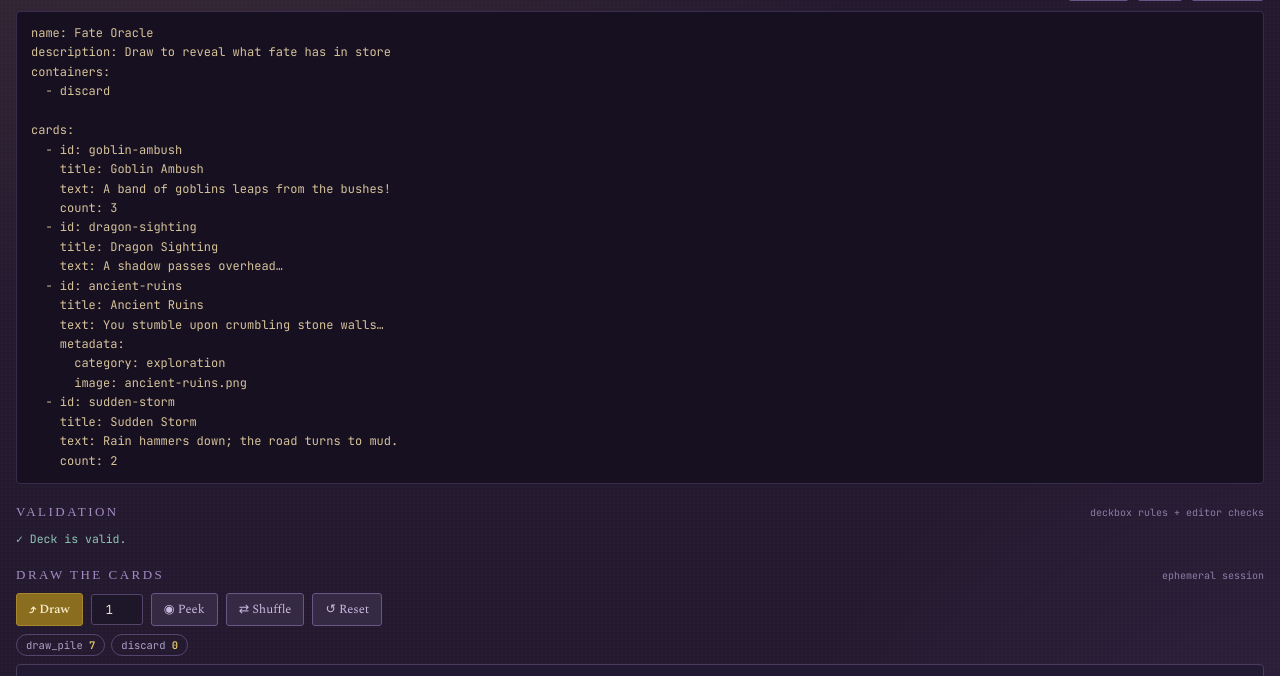
Test: DRAW THE CARDS › draws N=3: depletes draw_pile 7→4, accumulates 3 rows top-of-deck-first
The image size is (1280, 676).
Replace the text in the number field with "3" at (117, 610), box [91, 594, 143, 625]
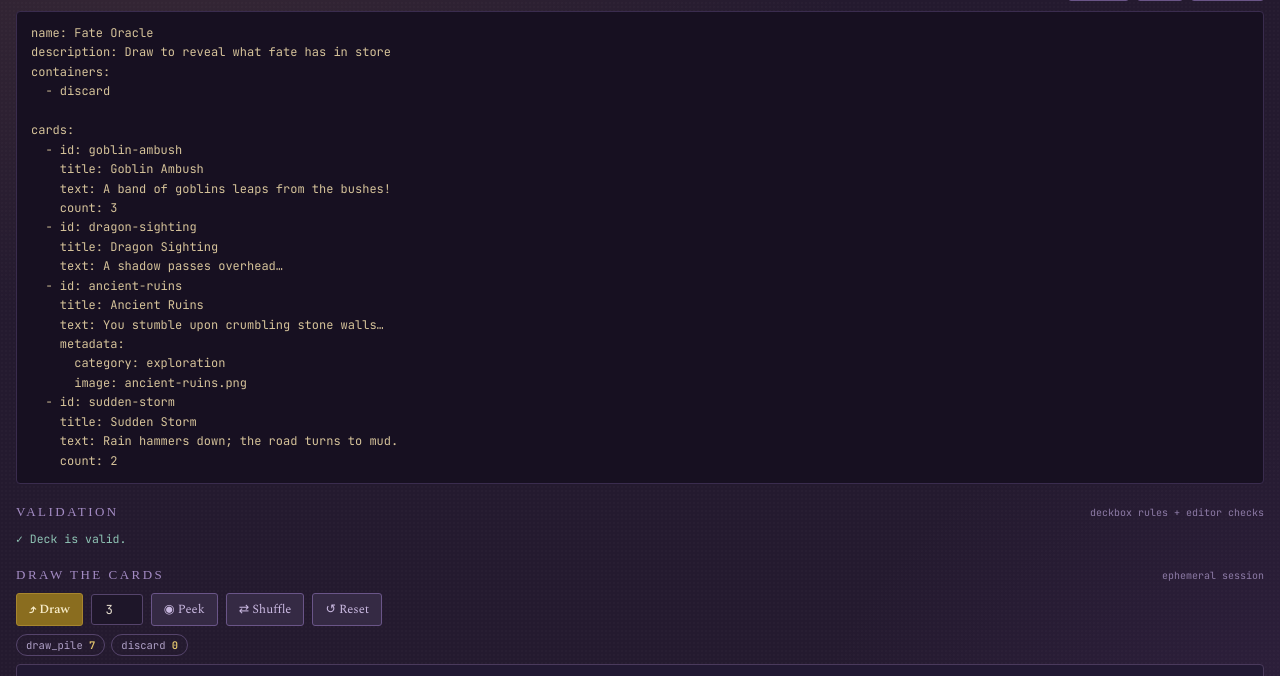
Click the button "⤴ Draw".
click(49, 610)  # box [16, 593, 83, 626]
(page scrolled)
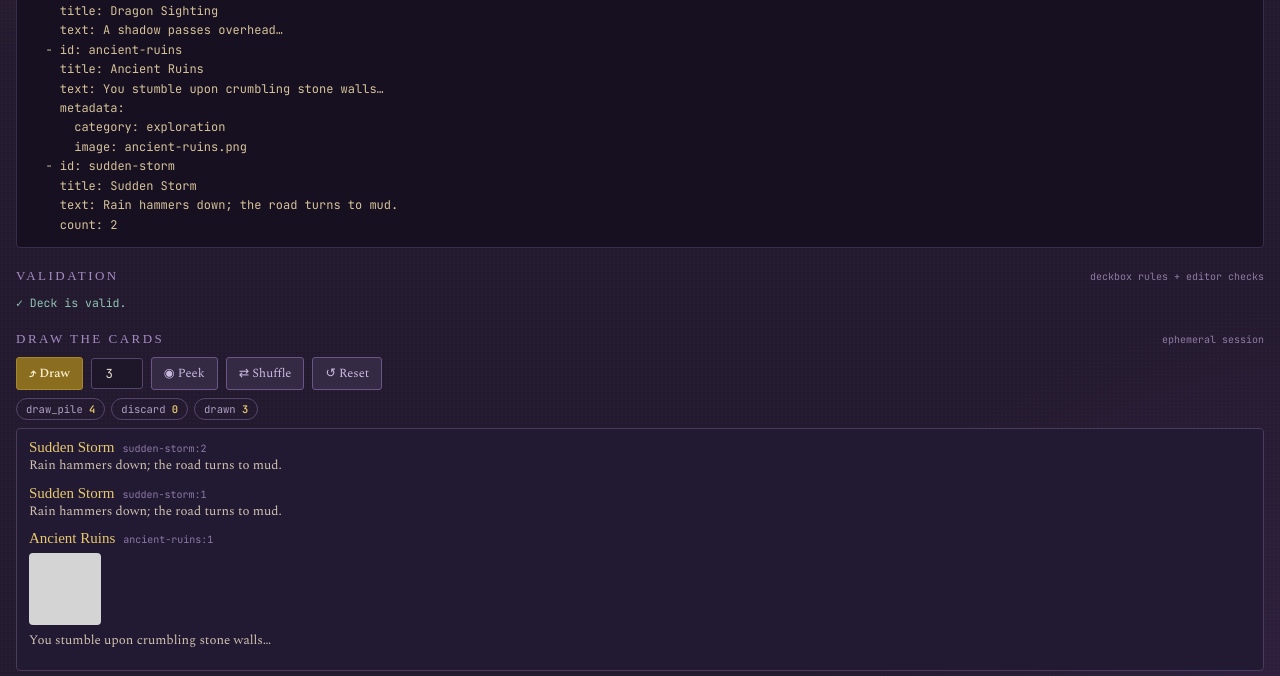
Check: the element with test id "pile-chip-draw_pile" reads "draw_pile 4", box [16, 398, 105, 420]
Check: the element with test id "pile-chip-drawn" reads "drawn 3", box [194, 398, 258, 420]
Check: the number of elements with test id "output-row" is 3, box [29, 439, 282, 475]; [29, 485, 282, 521]; [29, 530, 271, 650]
